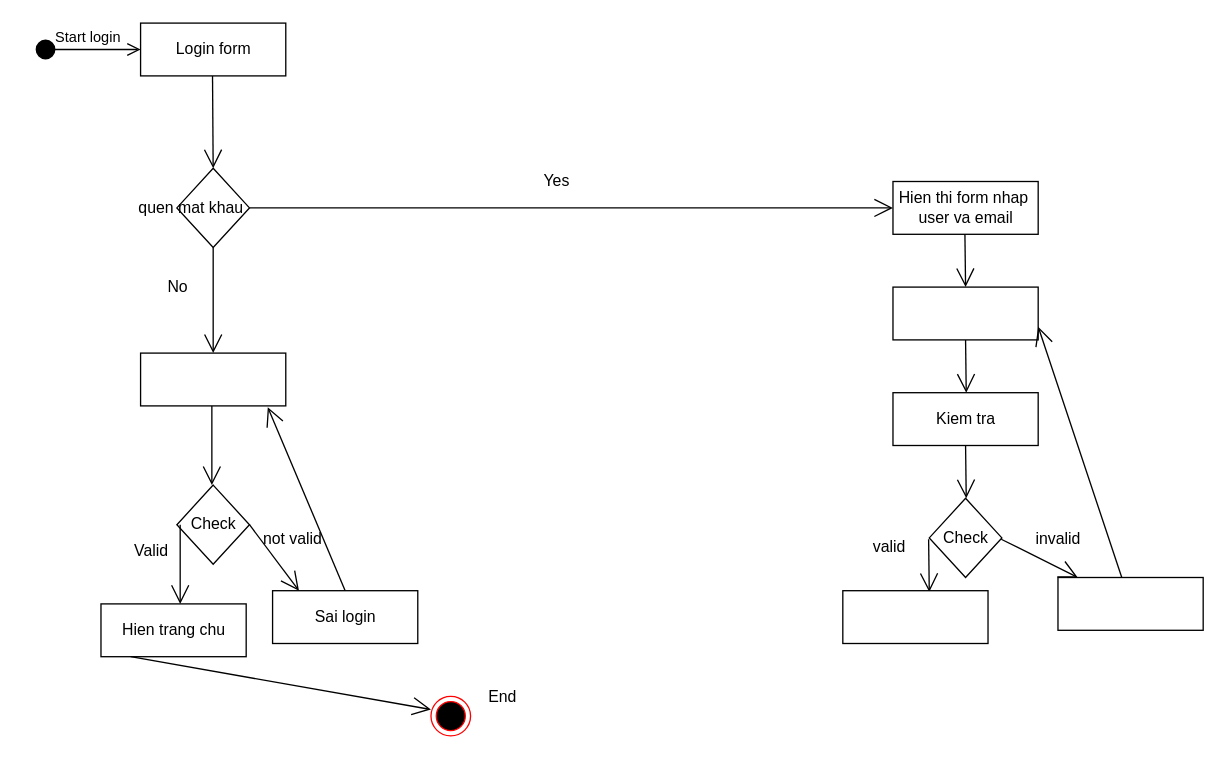
This 1226x759 diagram has some shape labels left out. Each missing label, with the box of its shape:
Gui email: (842, 589, 988, 644)
Loi email: (1057, 576, 1203, 630)
Nhap email: (892, 286, 1038, 340)
Nhap user,pass: (139, 352, 286, 406)
